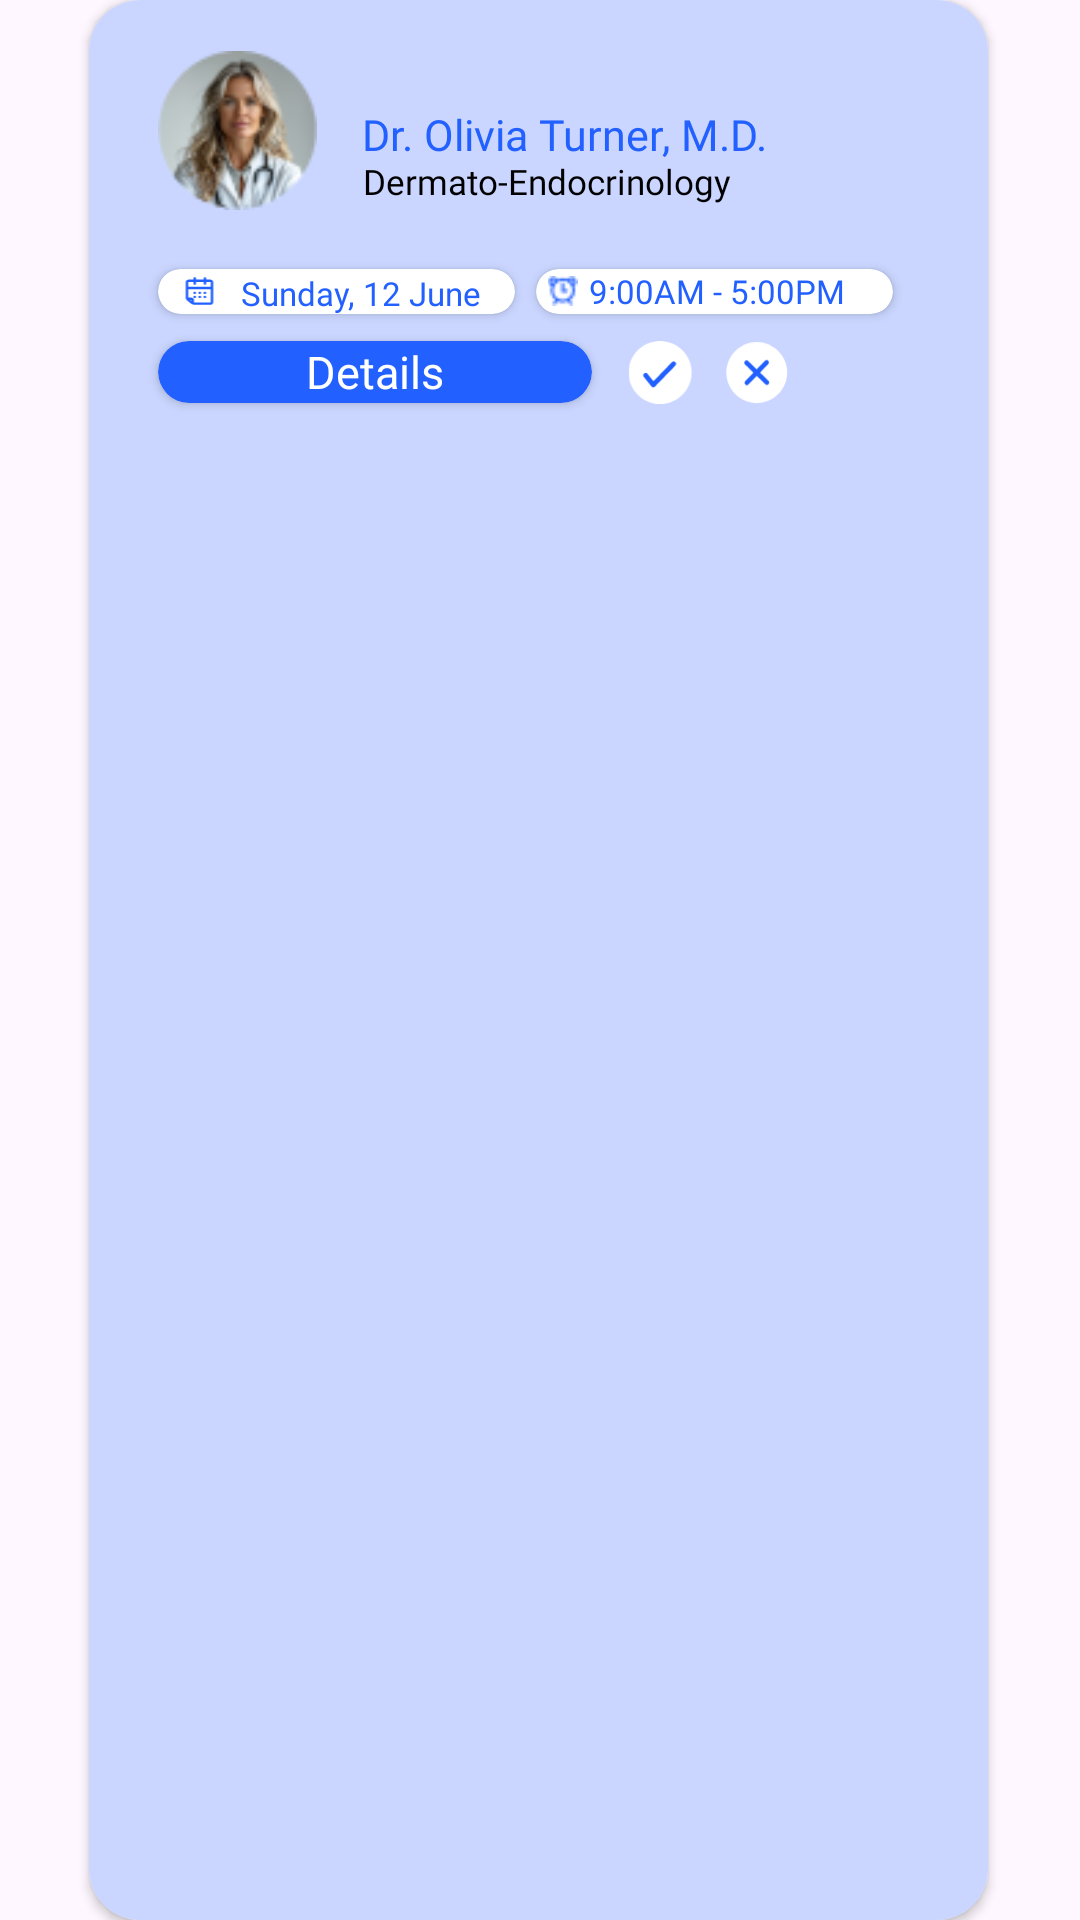

Icons on this 1080w x 1920h Android screen, each with its box as (x1, y1, x2, y2):
calender: (185, 277, 214, 305)
clock: (548, 276, 578, 306)
cross: (726, 342, 787, 403)
doctor one: (158, 51, 317, 210)
tick: (629, 341, 692, 404)
